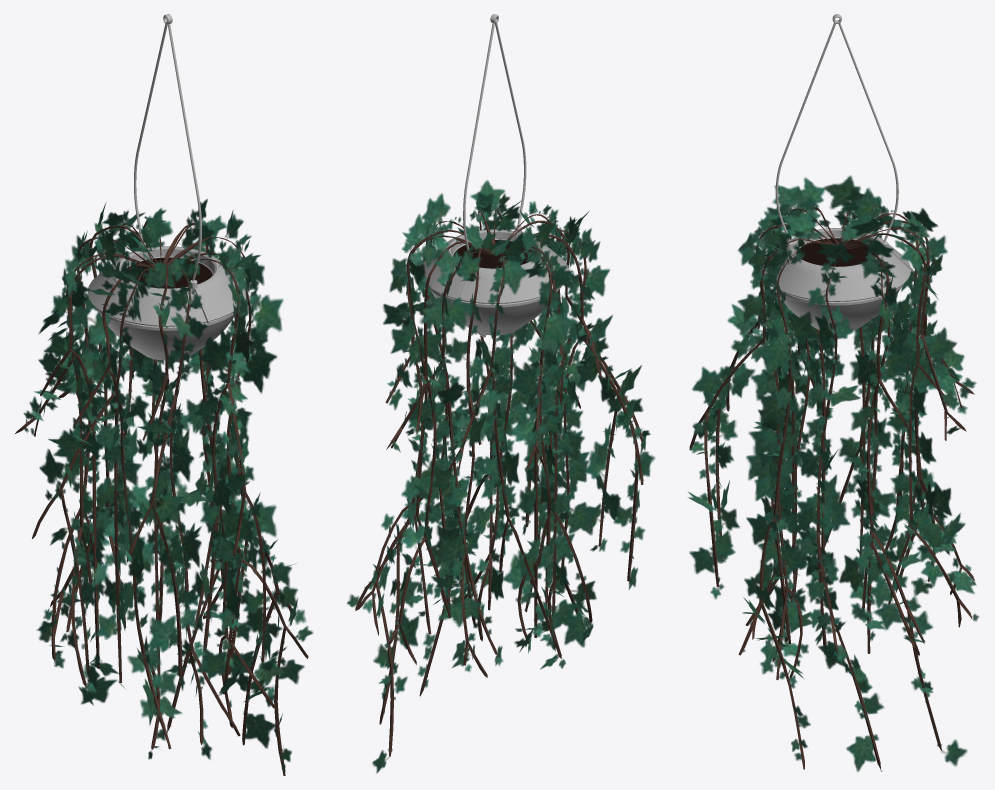
File: DrapePlant-transformed.glb
3 renders of one model, left to right at view 1: azimuth 30°, elevation 25°; view 2: azimuth 150°, elevation 25°; view 3: azimuth 270°, elevation 25°, orthographic. The views are drawn at different scales.
Parts seen in each view (by area): view 1: plant.000; view 2: plant.000; view 3: plant.000.
Part boxes in pixels (x1,y1,x2,y2): plant.000: (15, 14, 313, 775); plant.000: (347, 14, 655, 773); plant.000: (688, 14, 979, 771).
Size of the model in its own units: 0.6555 by 1.75 by 0.6448.
Materials: 5 (1 with a texture image).
